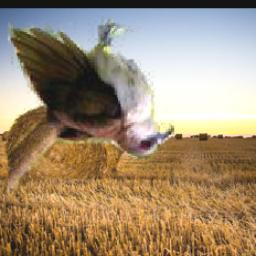Cuckoo: (9, 18, 175, 248)
